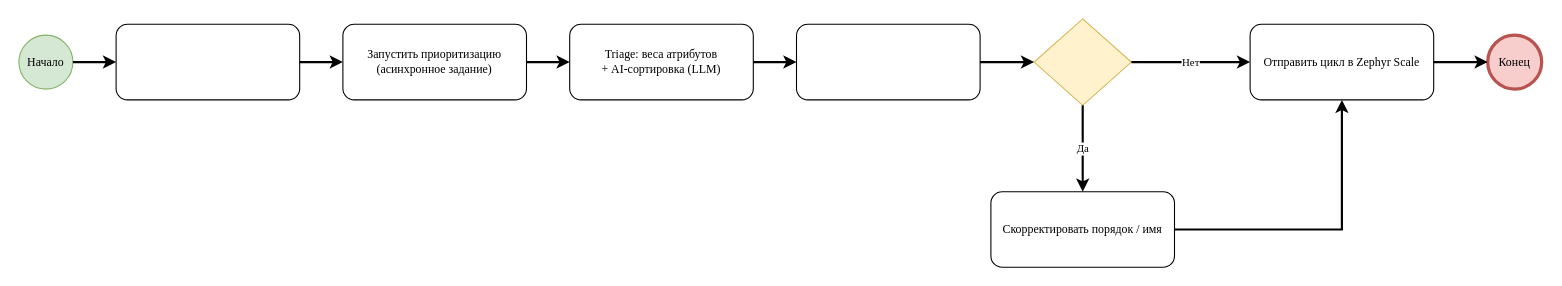
The diagram is 1562 pixels wide and 286 high, and some of its shapes have lost their labels. Here are the shapes that lost their labels. From the top down, the centre of each, then its label:
At (x=207, y=61): "Выбрать тесты в Triage (>= 2)".
At (x=887, y=61): "Просмотреть предлагаемый цикл".
At (x=1082, y=61): "Нужна ручная правка?".
